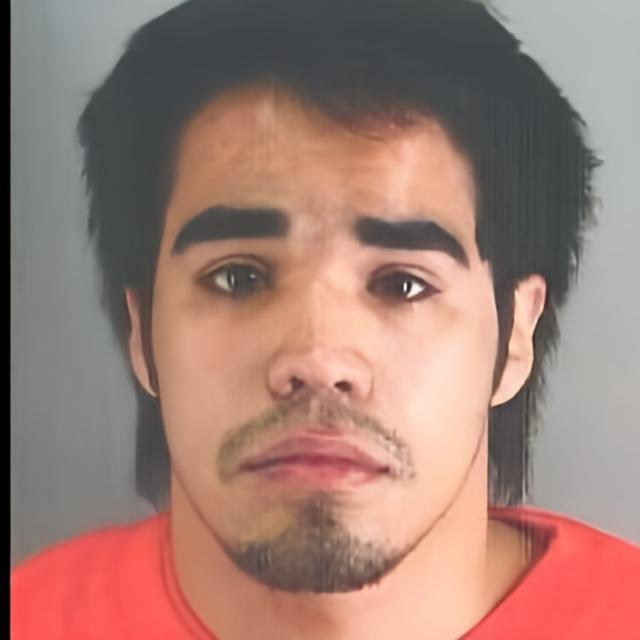sad: (156, 97, 500, 588)
